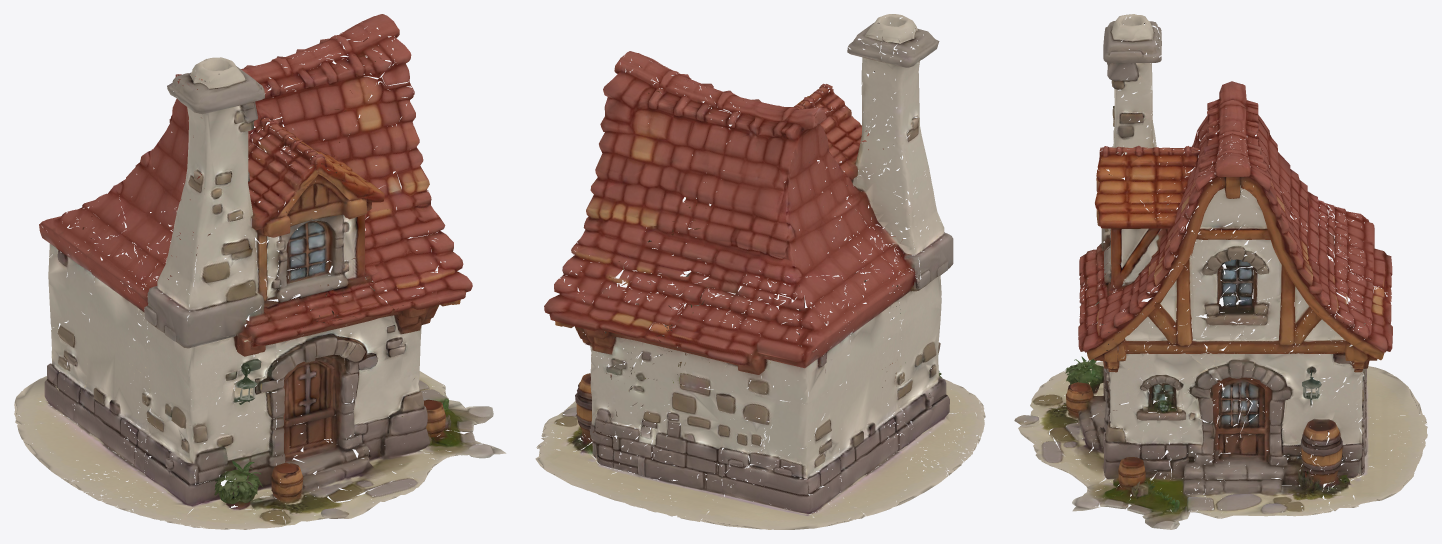
3 renders of one model, left to right at view 1: azimuth 30°, elevation 25°; view 2: azimuth 150°, elevation 25°; view 3: azimuth 270°, elevation 25°, orthographic. The views are drawn at different scales.
Parts seen in each view (by area): view 1: tripo_node_b24fb090-03bf-48a9-948c-3eb4e970b9ec_0; view 2: tripo_node_b24fb090-03bf-48a9-948c-3eb4e970b9ec_0; view 3: tripo_node_b24fb090-03bf-48a9-948c-3eb4e970b9ec_0.
Boxes of the visible parts, x1,y1,x2,y2 form: tripo_node_b24fb090-03bf-48a9-948c-3eb4e970b9ec_0: (14,14,506,529); tripo_node_b24fb090-03bf-48a9-948c-3eb4e970b9ec_0: (535,14,985,529); tripo_node_b24fb090-03bf-48a9-948c-3eb4e970b9ec_0: (1014,14,1427,529).
Size of the model in its own units: 0.9718 by 0.9989 by 0.9752.
1 material, 1 textured.
